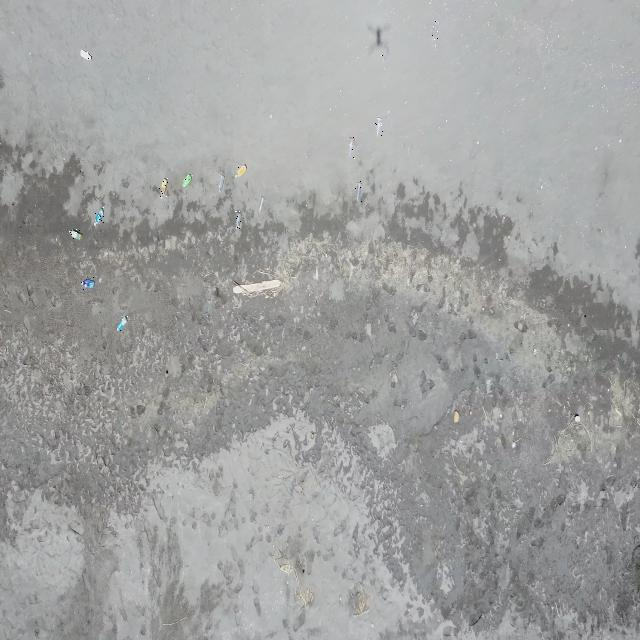plastic-bottle: (94, 206, 105, 226), (180, 172, 192, 190), (79, 277, 95, 290), (68, 229, 83, 242), (159, 178, 168, 199), (117, 316, 128, 333), (236, 163, 247, 179), (80, 50, 92, 60)
takeaway-cup: (348, 136, 356, 159), (355, 181, 363, 203), (431, 19, 439, 41), (375, 117, 383, 137), (235, 210, 242, 231), (217, 173, 224, 194), (381, 42, 388, 63), (258, 196, 266, 213)
